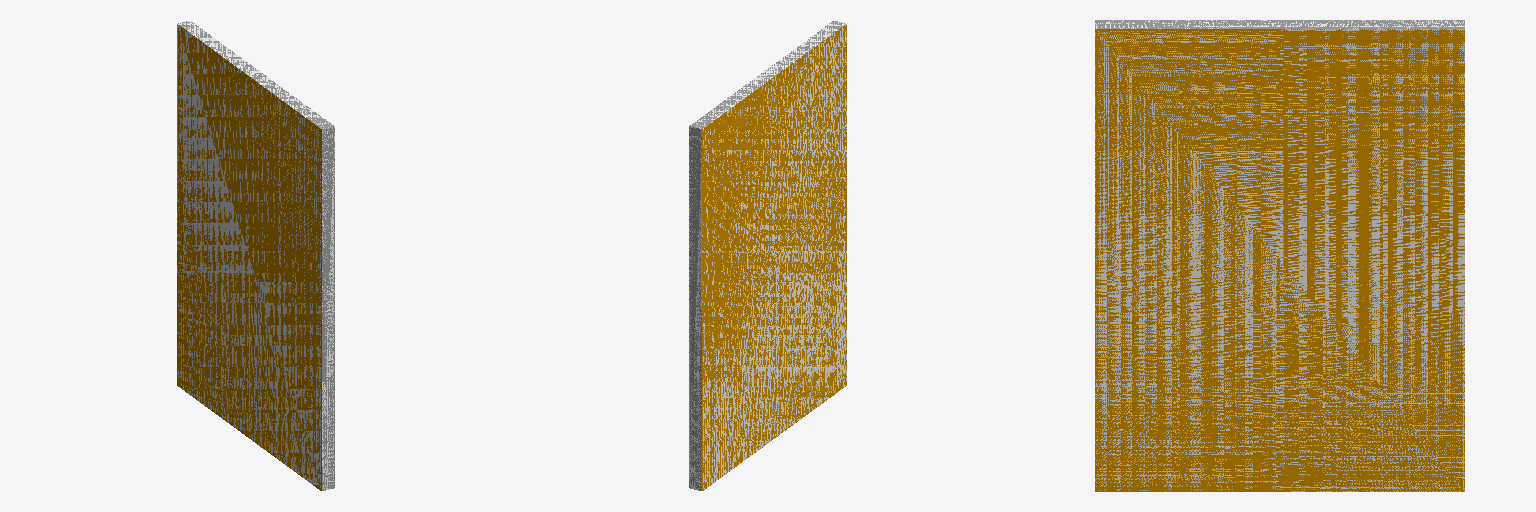
robot.urdf — my_object:
<?xml version="1.0" ?> 
<robot name="my_object" static="true">
  <link name="base_link">
  <inertial>
    <mass value="1.0" />
    <origin xyz="0 0 0.0" />
    <inertia ixx="1.0" ixy="0.0" ixz="0.0" iyy="1.0" iyz="0.0" izz="1.0"/>
  </inertial>
  <visual>
   <origin xyz="0 0 0.0" rpy="0 0 0" />
   <geometry>
     <mesh filename="package://cob_gazebo_objects/Media/models/blaueTuere01.dae"/>
   </geometry>
  </visual>
  <collision>
   <origin xyz="0 0 1.35" rpy="0 0 0" />
   <geometry>
     <box size="0.1 1.91 2.7" />
   </geometry>
  </collision>     
  </link>

<gazebo>
	<static>true</static>
</gazebo>
</robot>

--- What the picture shows (computed from the rendered views, not written in the file) ---
3 views of the same robot in one strip: view 1: azimuth 30°, elevation 25°; view 2: azimuth 150°, elevation 25°; view 3: azimuth 270°, elevation 25° (orthographic).
Model my_object with 1 links and 0 joints (none), rooted at base_link, posed every joint at zero.
Visible links, largest first — view 1: base_link; view 2: base_link; view 3: base_link.
Boxes of the visible links, <box> form: base_link: <box>177,21,334,490</box>; base_link: <box>689,21,846,490</box>; base_link: <box>1095,20,1464,491</box>.
Size in the robot's own frame: 0.0025 by 0.0485 by 0.0671 metres.
1 mesh visuals loaded from 1 distinct referenced files (1 Collada DAE).